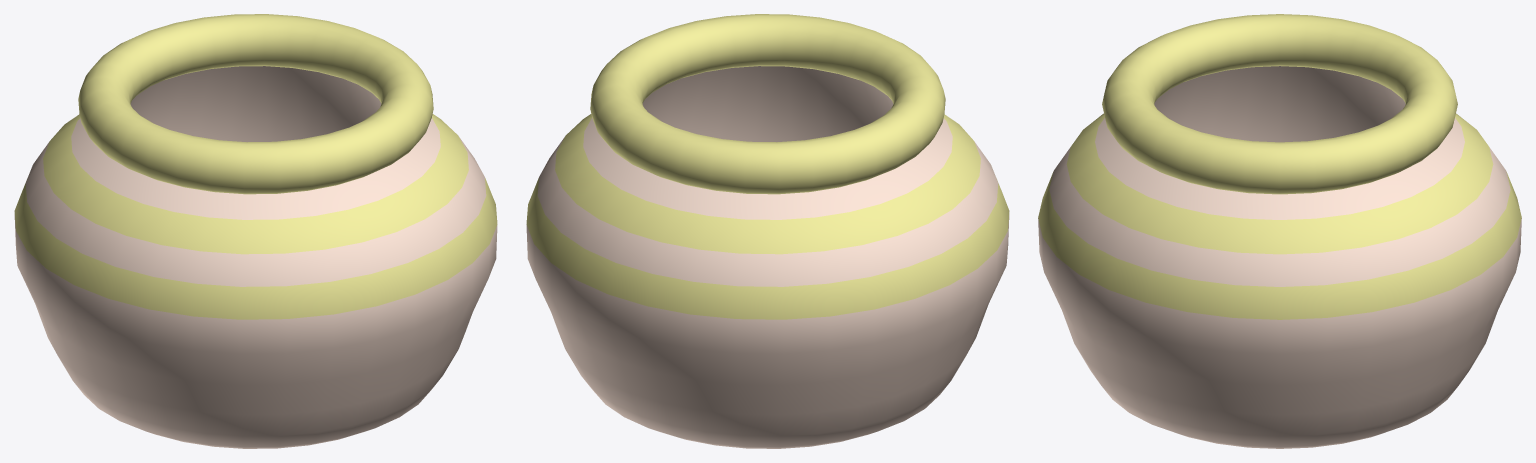
Rendered from pottery_tiny.fbx.
The picture shows the model from 3 angles, left to right: view 1: azimuth 30°, elevation 25°; view 2: azimuth 150°, elevation 25°; view 3: azimuth 270°, elevation 25°; orthographic projection.
Parts seen in each view (by area): view 1: pottery_tiny, rim; view 2: pottery_tiny, rim; view 3: pottery_tiny, rim.
Part boxes in pixels (left/top/right/bottom): pottery_tiny: left=14, top=66, right=497, bottom=448; rim: left=78, top=14, right=433, bottom=194; pottery_tiny: left=526, top=66, right=1009, bottom=448; rim: left=590, top=14, right=945, bottom=194; pottery_tiny: left=1038, top=66, right=1521, bottom=448; rim: left=1102, top=14, right=1457, bottom=194.
Bounding box in the file's own units: 1.11 × 0.7915 × 1.11.
